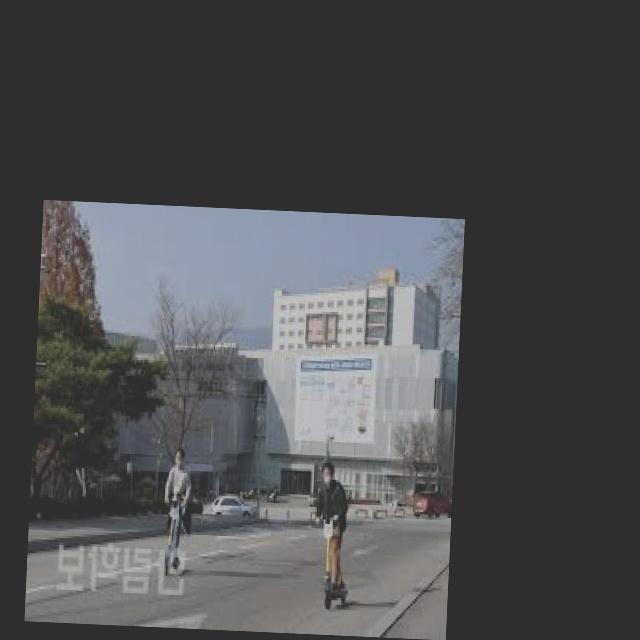bare_head: (314, 459, 343, 485)
human: (311, 459, 350, 586)
kickboard: (311, 579, 366, 615)
